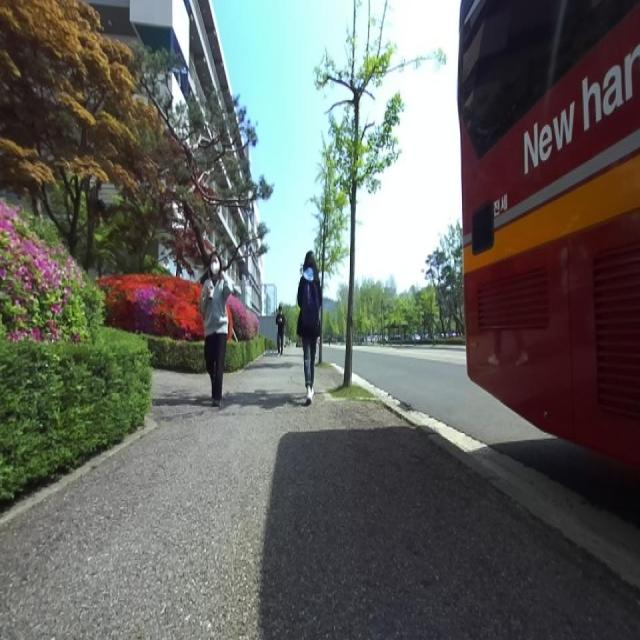sidewalk: (0, 348, 640, 639), (0, 347, 394, 639)
